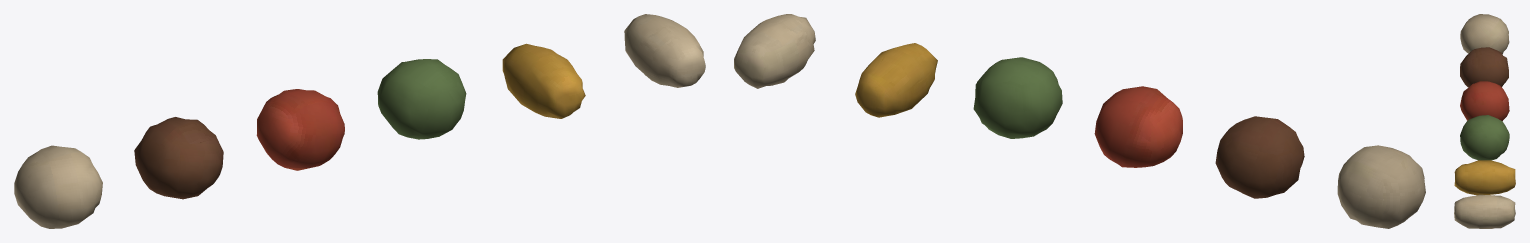
Rendered from food_pellets.glb.
The picture shows the model from 3 angles, left to right: view 1: azimuth 30°, elevation 25°; view 2: azimuth 150°, elevation 25°; view 3: azimuth 270°, elevation 25°; orthographic projection. The views are drawn at different scales.
Visible parts, largest first — view 1: pellet_0, pellet_2, pellet_1, pellet_3, pellet_4, pellet_5; view 2: pellet_0, pellet_2, pellet_3, pellet_1, pellet_5, pellet_4; view 3: pellet_5, pellet_3, pellet_4, pellet_1, pellet_2, pellet_0.
Part boxes in pixels (left/top/right/bottom): pellet_0: left=14, top=145, right=102, bottom=228; pellet_2: left=256, top=89, right=344, bottom=170; pellet_1: left=134, top=117, right=223, bottom=199; pellet_3: left=377, top=59, right=466, bottom=139; pellet_4: left=502, top=43, right=585, bottom=118; pellet_5: left=624, top=14, right=705, bottom=87; pellet_0: left=1337, top=145, right=1425, bottom=228; pellet_2: left=1094, top=86, right=1182, bottom=167; pellet_3: left=973, top=57, right=1062, bottom=138; pellet_1: left=1215, top=116, right=1304, bottom=198; pellet_5: left=734, top=14, right=815, bottom=88; pellet_4: left=855, top=43, right=937, bottom=117; pellet_5: left=1454, top=194, right=1515, bottom=228; pellet_3: left=1460, top=115, right=1509, bottom=160; pellet_4: left=1454, top=160, right=1515, bottom=195; pellet_1: left=1460, top=47, right=1508, bottom=87; pellet_2: left=1460, top=81, right=1509, bottom=120; pellet_0: left=1460, top=14, right=1509, bottom=54.
Size of the model in its own units: 0.5807 by 0.0632 by 0.0816.
Materials: 6 (6 with a texture image).
